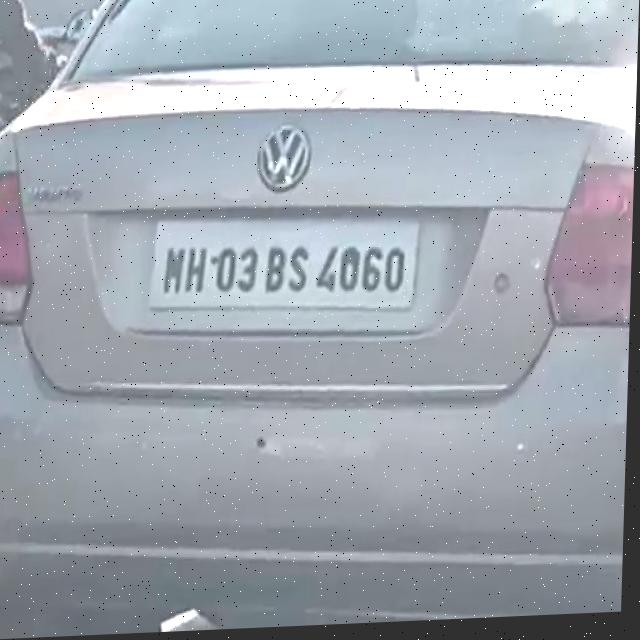plate: (149, 208, 423, 323)
